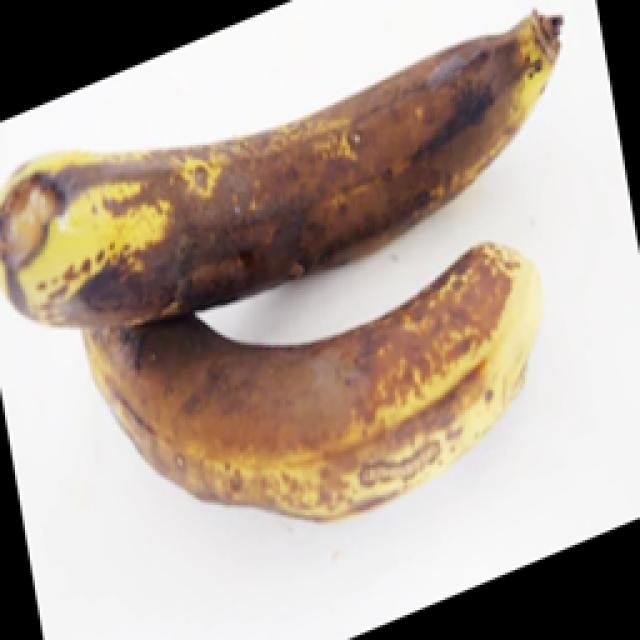Rotten_Banana: (0, 82, 632, 584)
